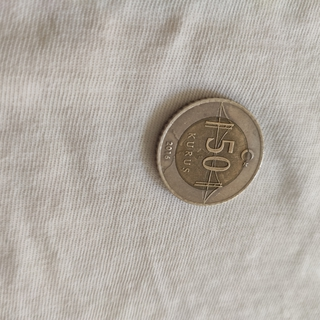50KURUS: (152, 95, 265, 207)
